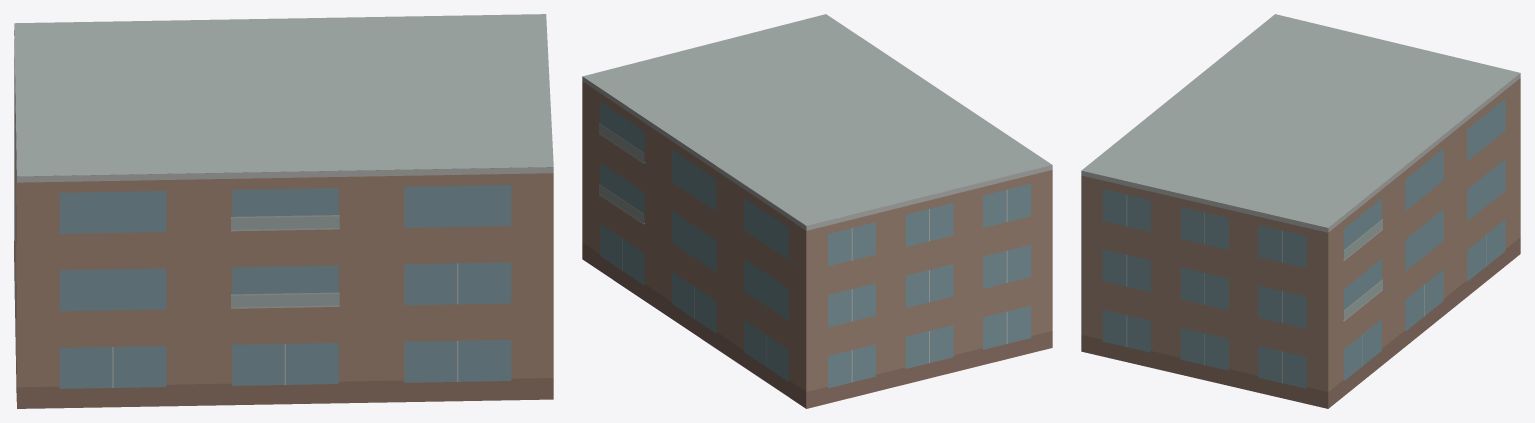
The model's file is survey-upis-32931498.glb.
The picture shows the model from 3 angles, left to right: view 1: azimuth 30°, elevation 25°; view 2: azimuth 150°, elevation 25°; view 3: azimuth 270°, elevation 25°; orthographic projection. The views are drawn at different scales.
Parts seen in each view (by area): view 1: survey-upis-32931498.tmp; view 2: survey-upis-32931498.tmp; view 3: survey-upis-32931498.tmp.
Part boxes in pixels (left/top/right/bottom): survey-upis-32931498.tmp: left=14, top=14, right=553, bottom=408; survey-upis-32931498.tmp: left=582, top=14, right=1052, bottom=408; survey-upis-32931498.tmp: left=1081, top=14, right=1520, bottom=408.
Size of the model in its own units: 23.22 by 9.15 by 20.15.
